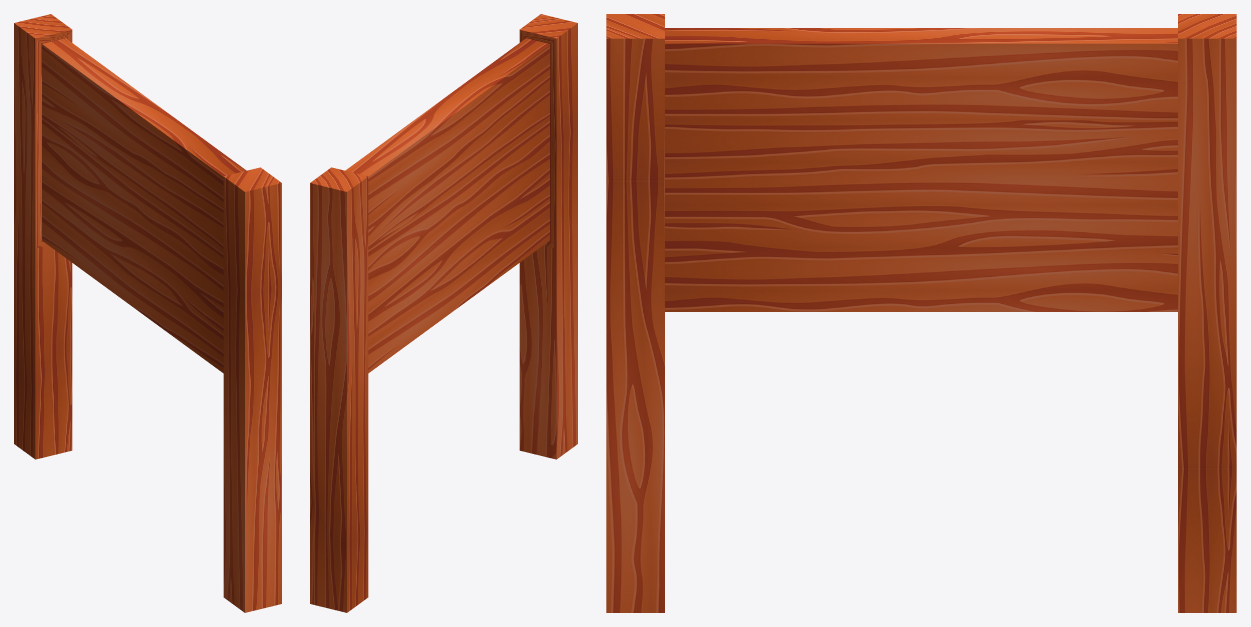
File: signboard.fbx
3 views of the same model, side by side, from view 1: azimuth 30°, elevation 25°; view 2: azimuth 150°, elevation 25°; view 3: azimuth 270°, elevation 25° (orthographic). The views are drawn at different scales.
Visible parts, largest first — view 1: Cube; view 2: Cube; view 3: Cube.
Part boxes in pixels (box(x1,y1,x2,y2)): Cube: box(14, 14, 281, 612); Cube: box(310, 14, 577, 612); Cube: box(606, 14, 1236, 612).
Bounding box in the file's own units: 0.1851 × 2.01 × 2.
